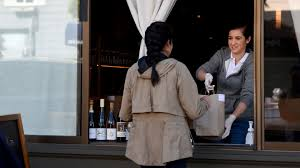Bad: (118, 20, 254, 168)
